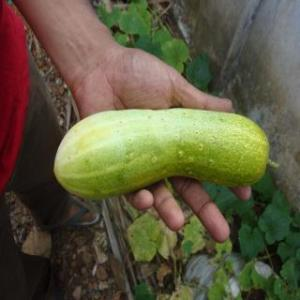cucumber: (51, 109, 270, 197)
